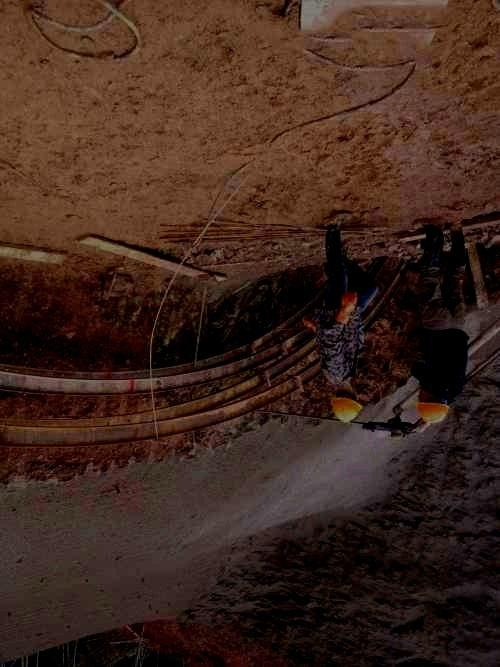helmet: (329, 381, 363, 424), (415, 384, 450, 424)
